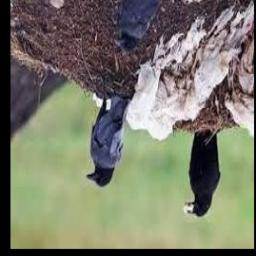Crow: (85, 95, 130, 188), (114, 0, 173, 53), (185, 132, 220, 217)
